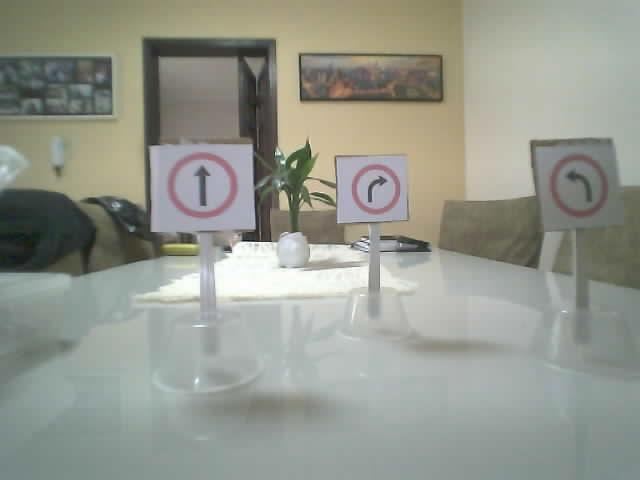R-25a_esquerda: (549, 153, 607, 216)
R-25b_direita: (350, 163, 400, 214)
R-26_frente: (167, 151, 237, 218)
